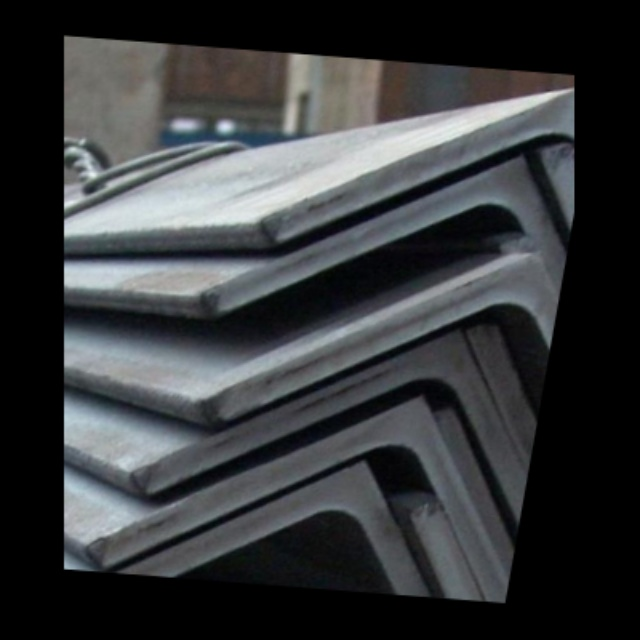Angle: (145, 339, 547, 580), (203, 266, 561, 527), (209, 180, 574, 415), (106, 413, 533, 603), (276, 88, 574, 340), (64, 476, 510, 602), (456, 339, 551, 571), (422, 434, 534, 603), (520, 168, 574, 398), (422, 517, 519, 603)
